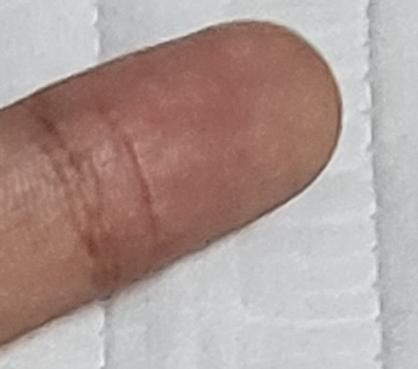Fingerprints: (22, 19, 344, 293)
